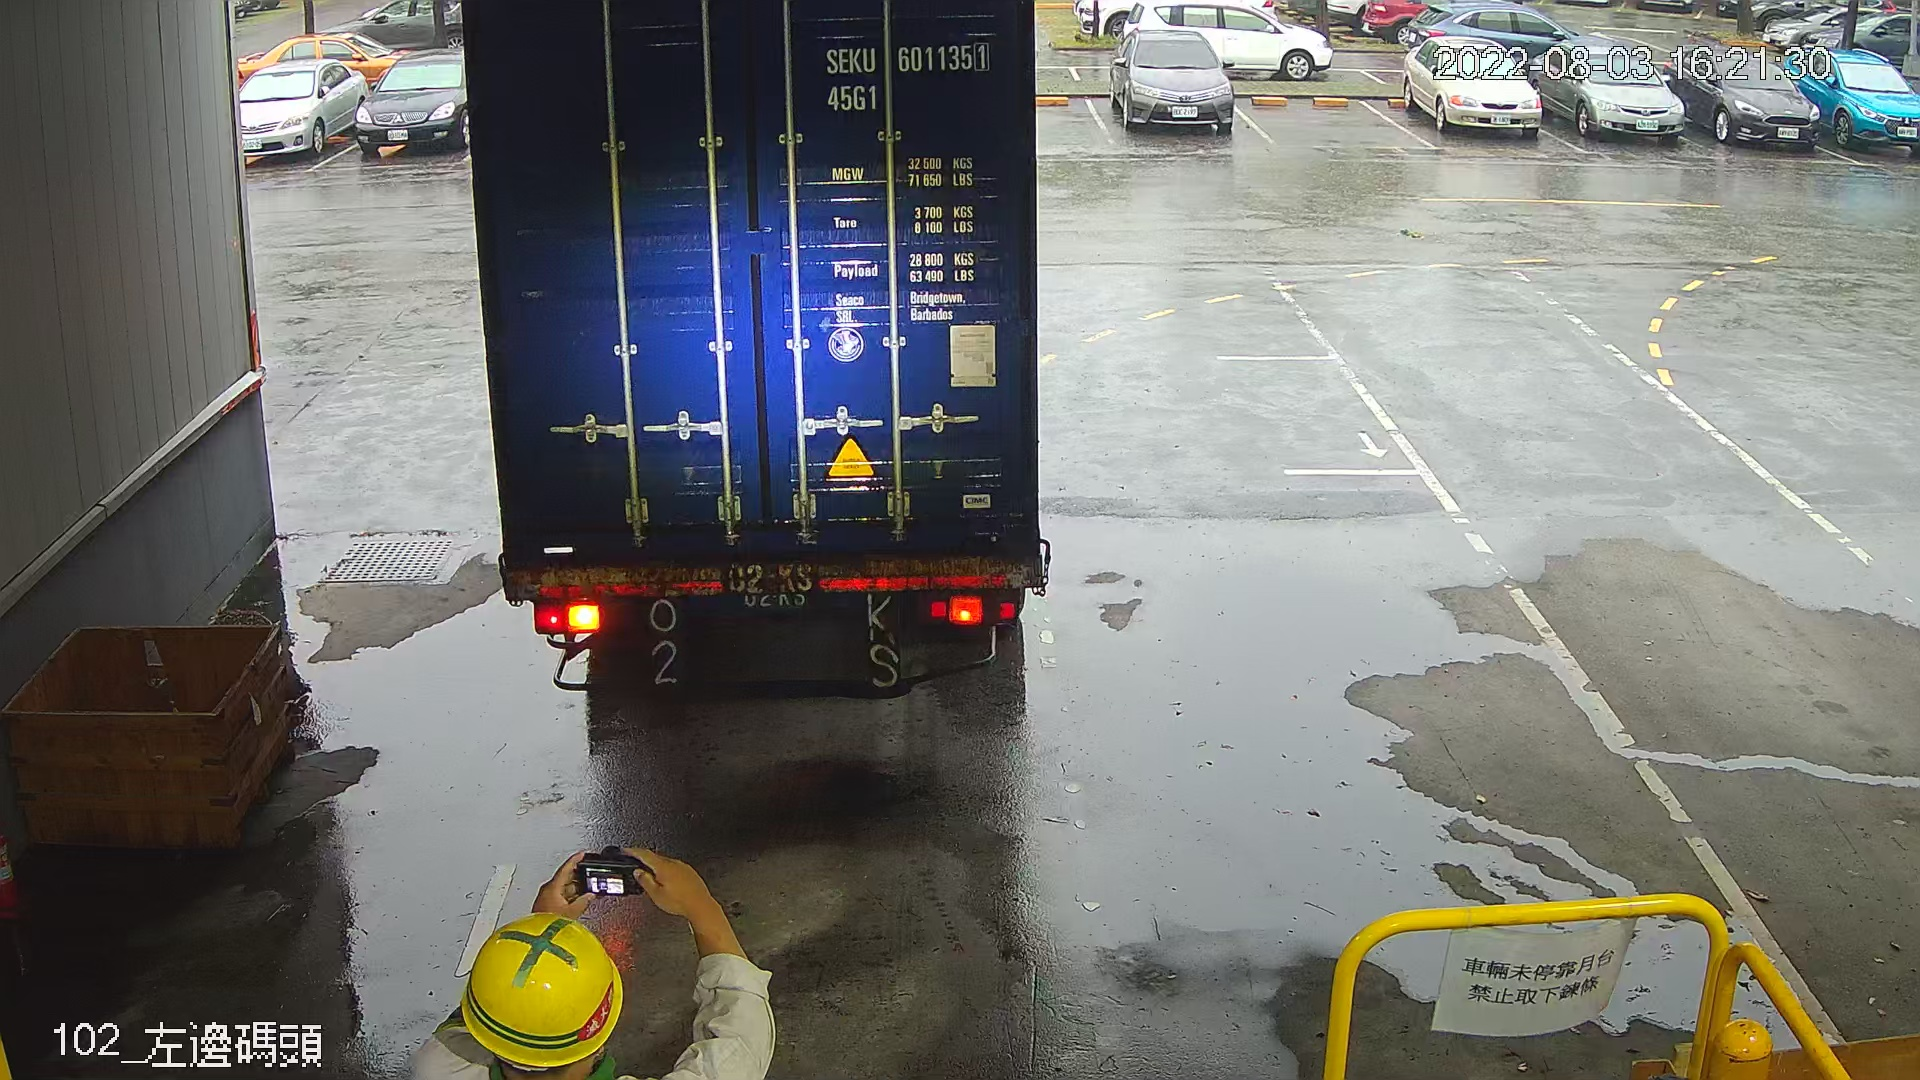container: (814, 33, 998, 123)
